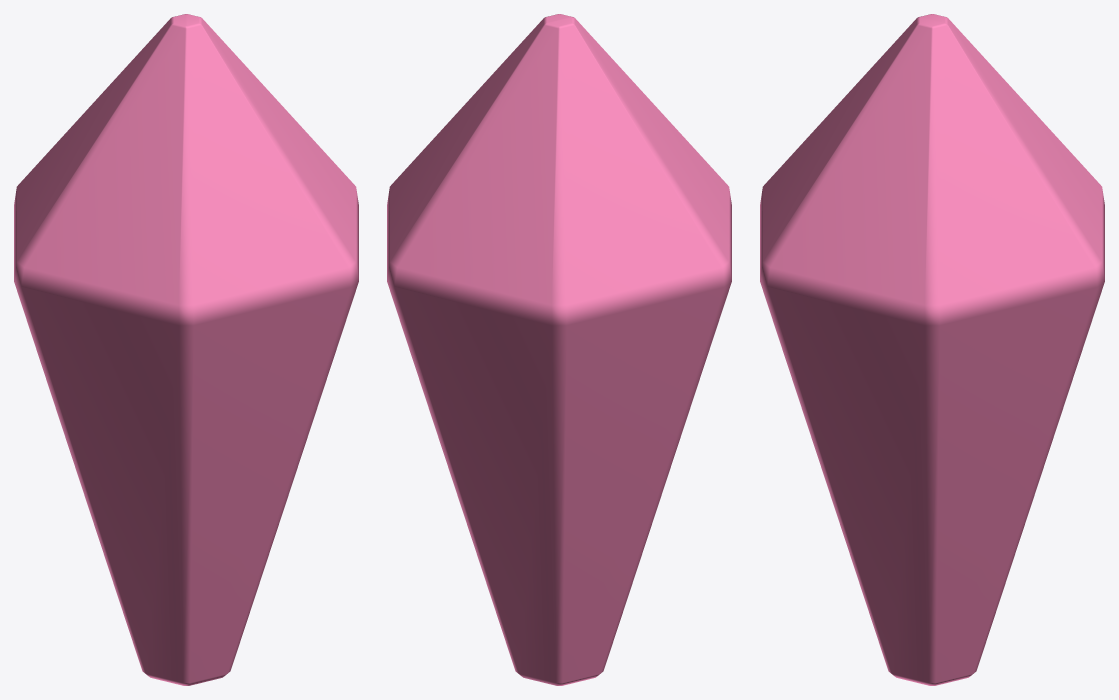
Rendered from Crystal3.fbx.
3 views of the same model, side by side, from view 1: azimuth 30°, elevation 25°; view 2: azimuth 150°, elevation 25°; view 3: azimuth 270°, elevation 25° (orthographic).
Parts seen in each view (by area): view 1: Crystal3; view 2: Crystal3; view 3: Crystal3.
Boxes of the visible parts, x1,y1,x2,y2 form: Crystal3: (14,14,358,685); Crystal3: (387,14,731,685); Crystal3: (760,14,1104,685).
Bounding box in the file's own units: 79.44 × 146 × 70.3.
